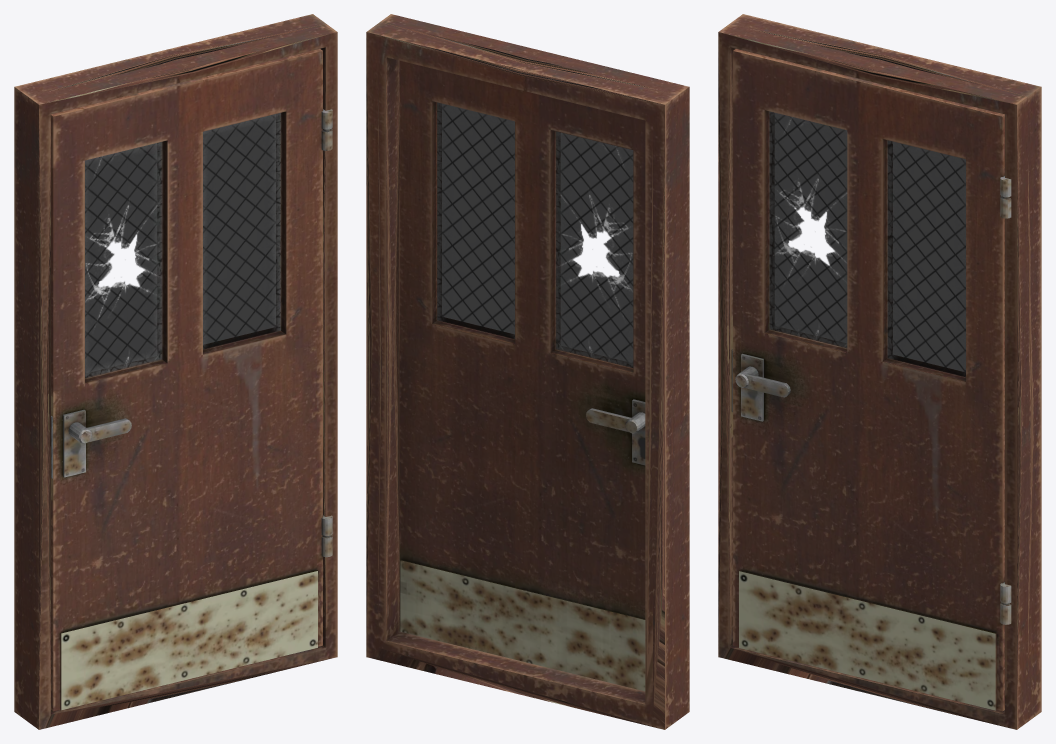
Rendered from door-inner.glb.
3 renders of one model, left to right at view 1: azimuth 30°, elevation 25°; view 2: azimuth 150°, elevation 25°; view 3: azimuth 330°, elevation 25°, orthographic.
Visible parts, largest first — view 1: Cube.002_Cube.000, Cube.002_Cube.001; view 2: Cube.002_Cube.000, Cube.002_Cube.001; view 3: Cube.002_Cube.000, Cube.002_Cube.001.
Boxes of the visible parts, <box> form: Cube.002_Cube.000: <box>51,49,332,711</box>; Cube.002_Cube.001: <box>14,14,337,729</box>; Cube.002_Cube.000: <box>399,61,645,691</box>; Cube.002_Cube.001: <box>366,14,689,729</box>; Cube.002_Cube.000: <box>732,49,1011,711</box>; Cube.002_Cube.001: <box>718,14,1041,729</box>.
Bounding box in the file's own units: 396 × 793 × 84.73.
1 material, 1 textured.
